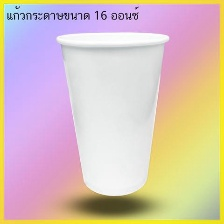paper_cup: (51, 27, 173, 200)
